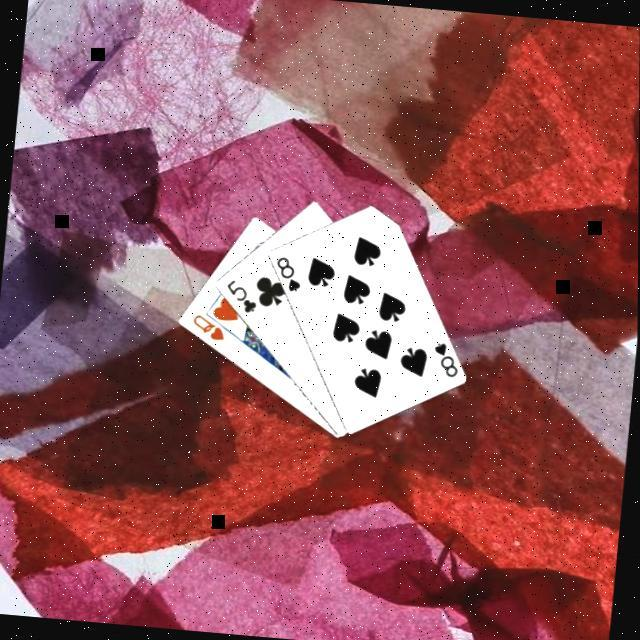5C: (222, 275, 263, 316)
8S: (429, 337, 464, 380), (271, 252, 306, 294)
QH: (189, 310, 229, 343)
